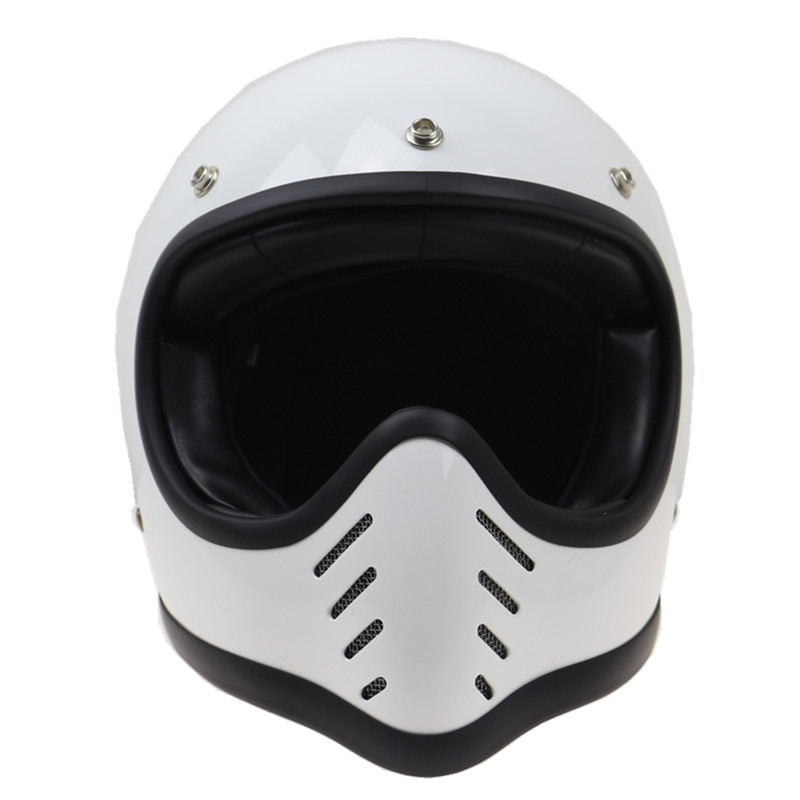with_helmet: (114, 29, 703, 774)
